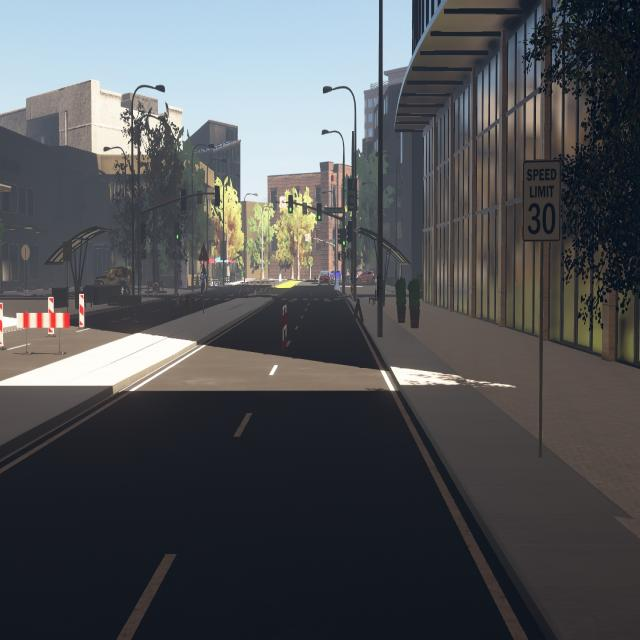speedLimit30: (522, 159, 560, 242)
